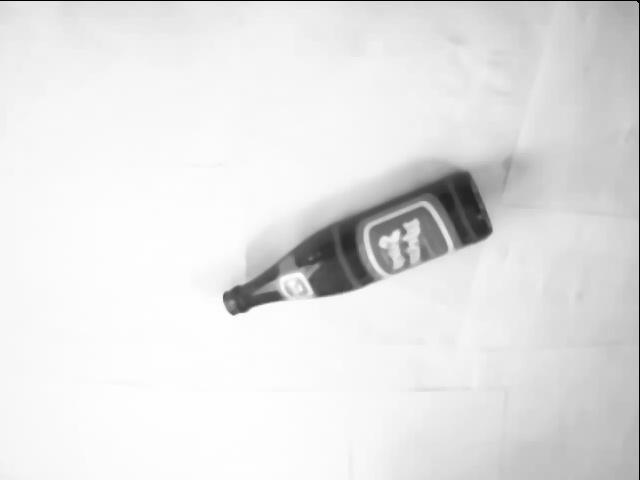Glass: (222, 163, 500, 315)
